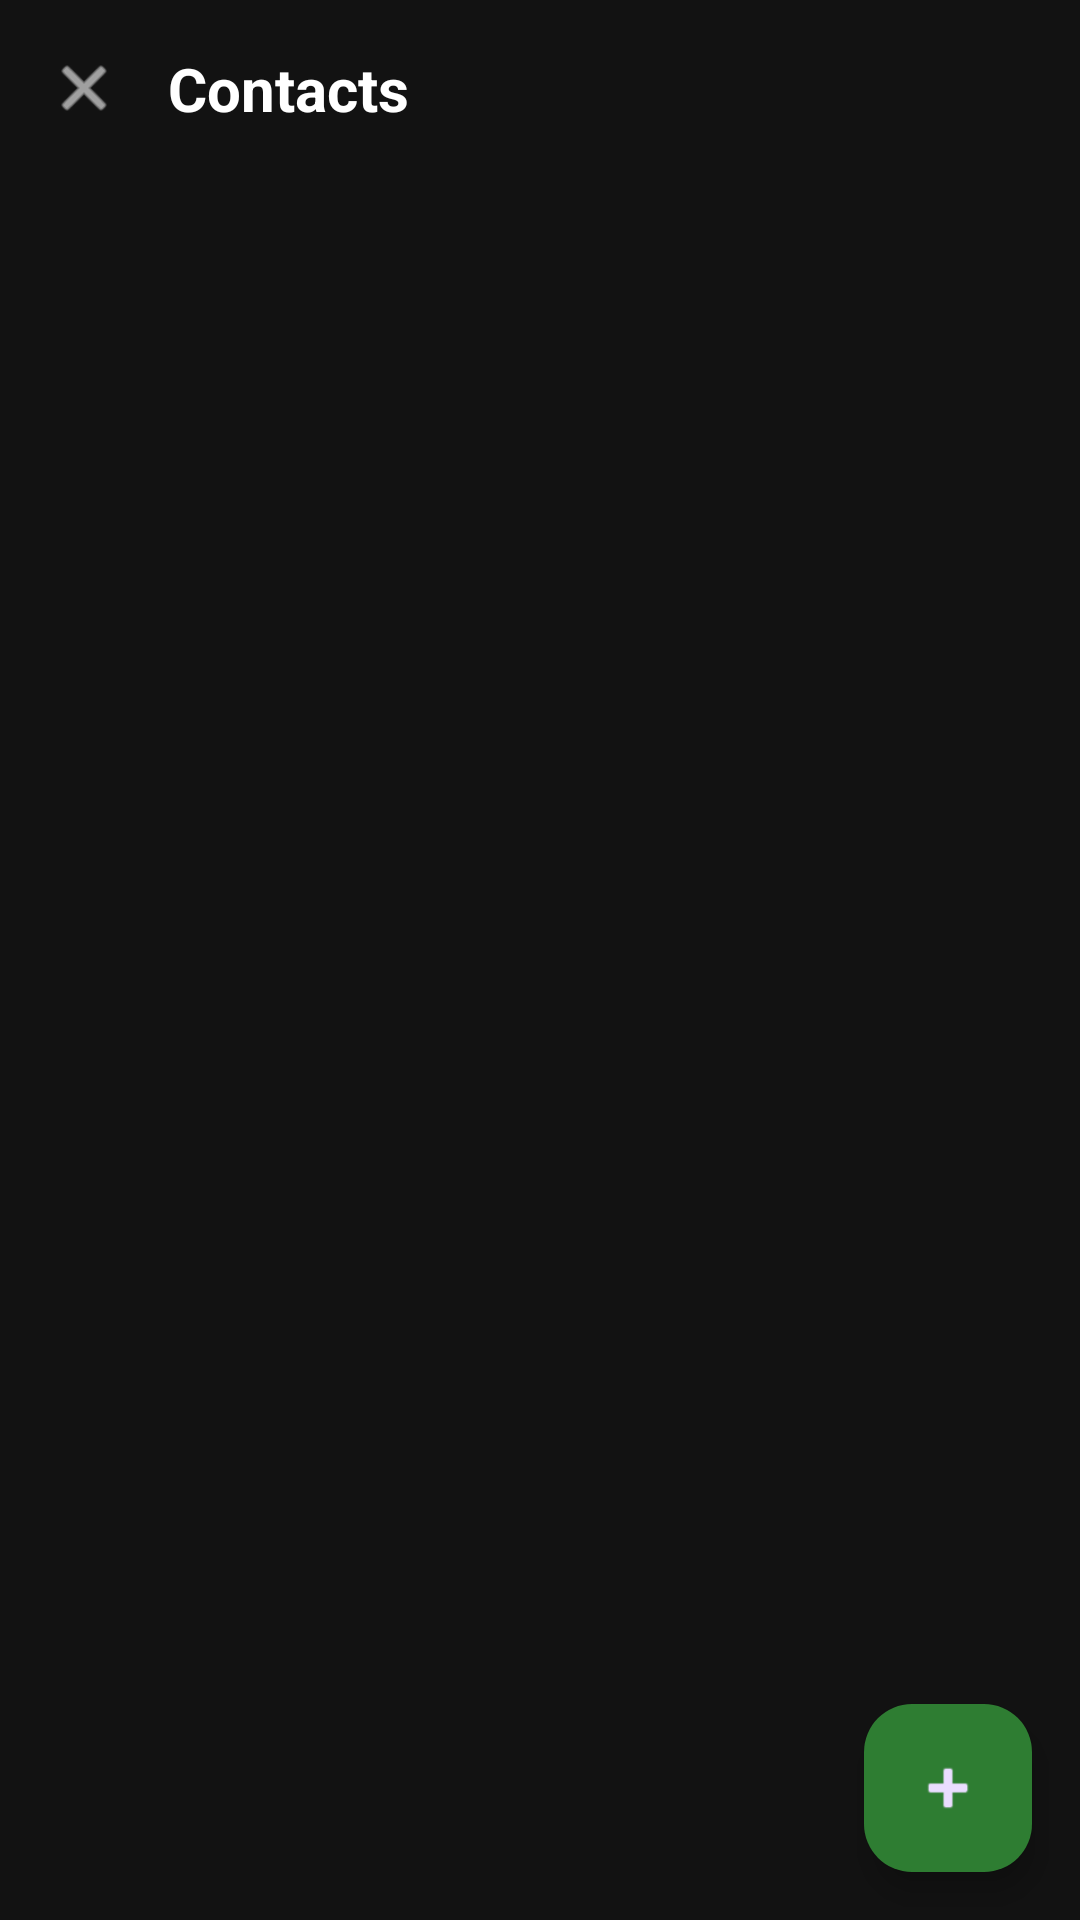

Point at icon controls on the screen. Image size 1080w x 1920h, points as (x=x, y=y).
add: (x=948, y=1788)
close clear cancel: (x=84, y=88)
